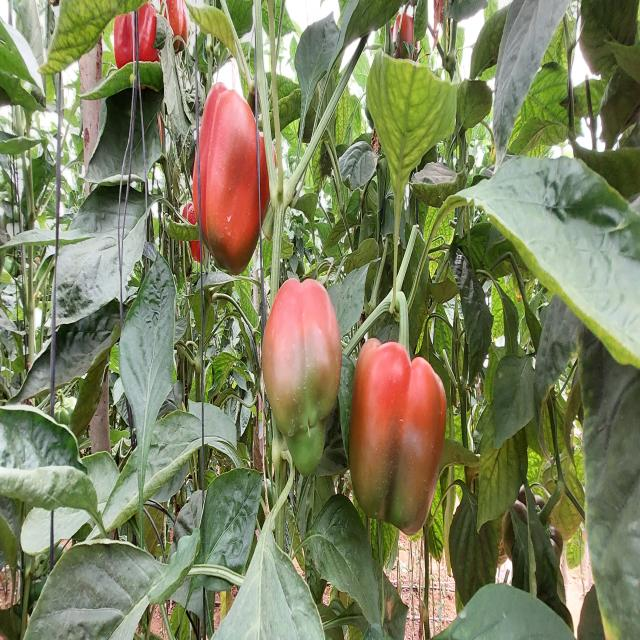BrownishRed--Can-be-Harvested: (354, 312, 450, 537), (194, 76, 272, 272), (263, 289, 342, 477)
Red-Ready-to-Harvest: (110, 4, 194, 64)
